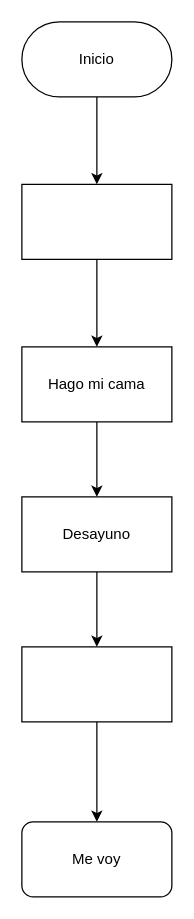
Some shapes in this 194 by 919 pixel diagram are drawn without their labels. The shapes that lost their labels are listed below. From the top down, each one's box as (x1, y1, x2, y2) in pixels, then its label:
(21, 183, 172, 259): Me despierto
(21, 646, 172, 722): Me arreglo
